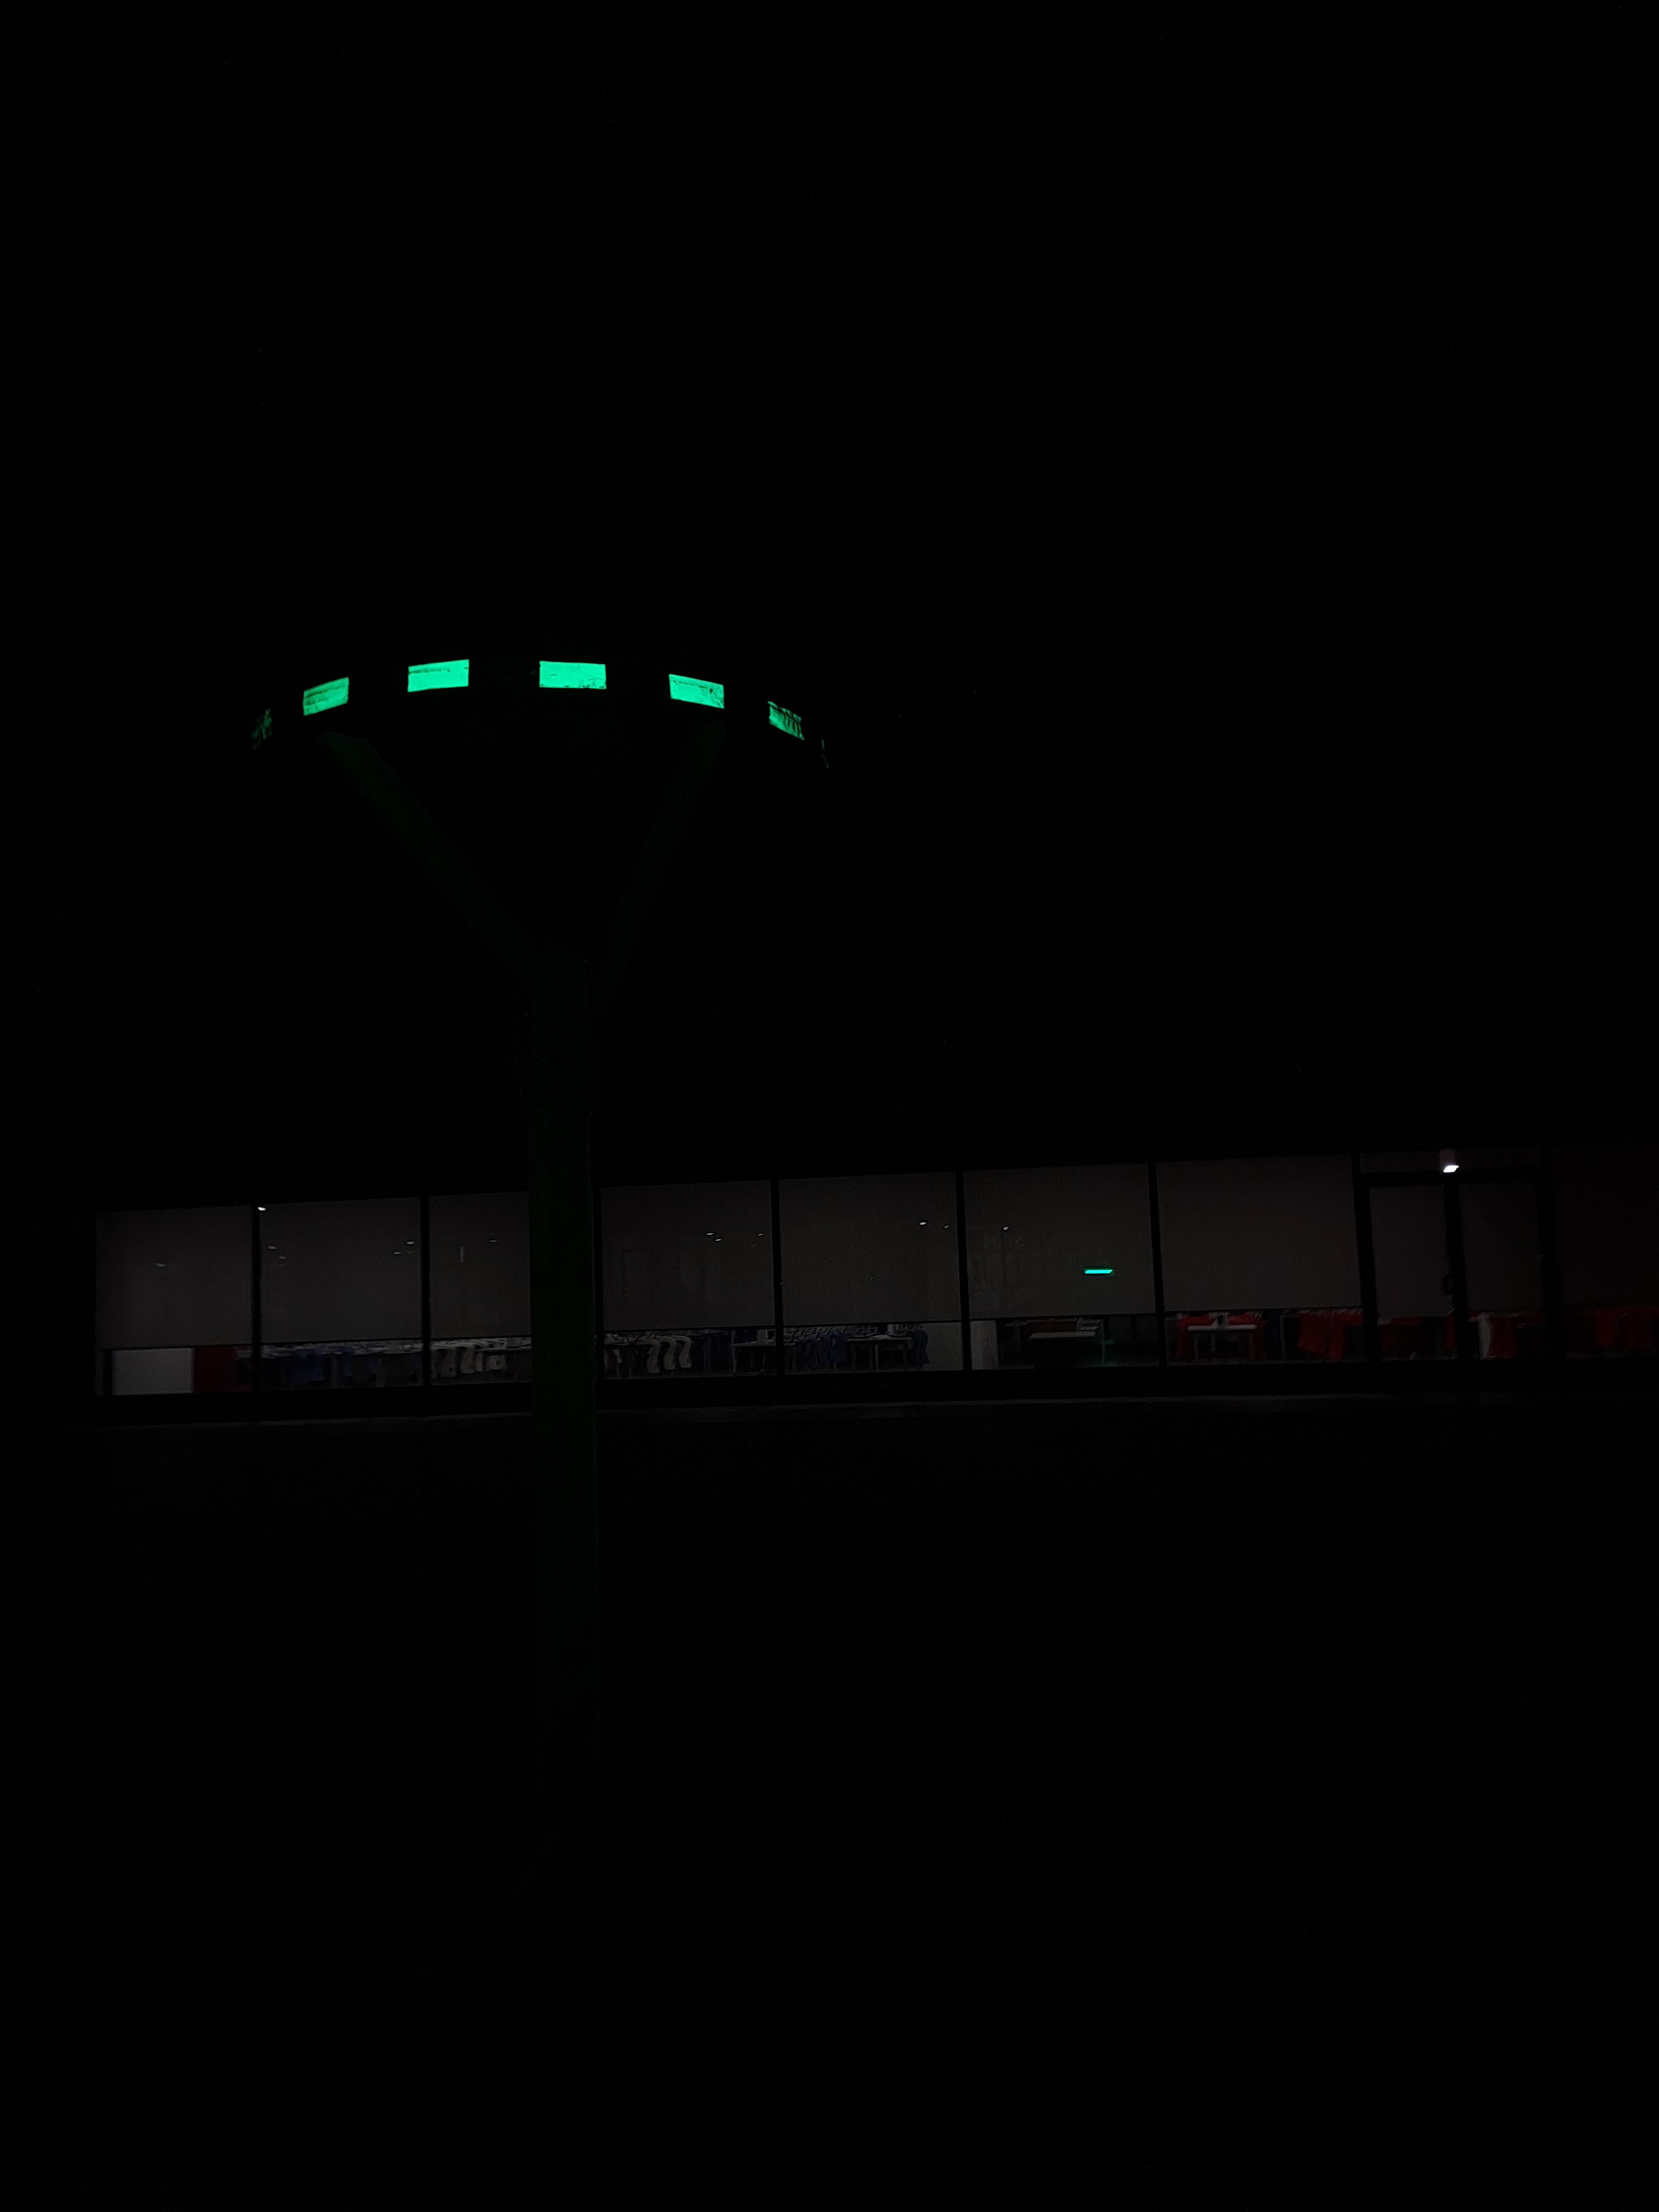hoop: (295, 651, 810, 751)
